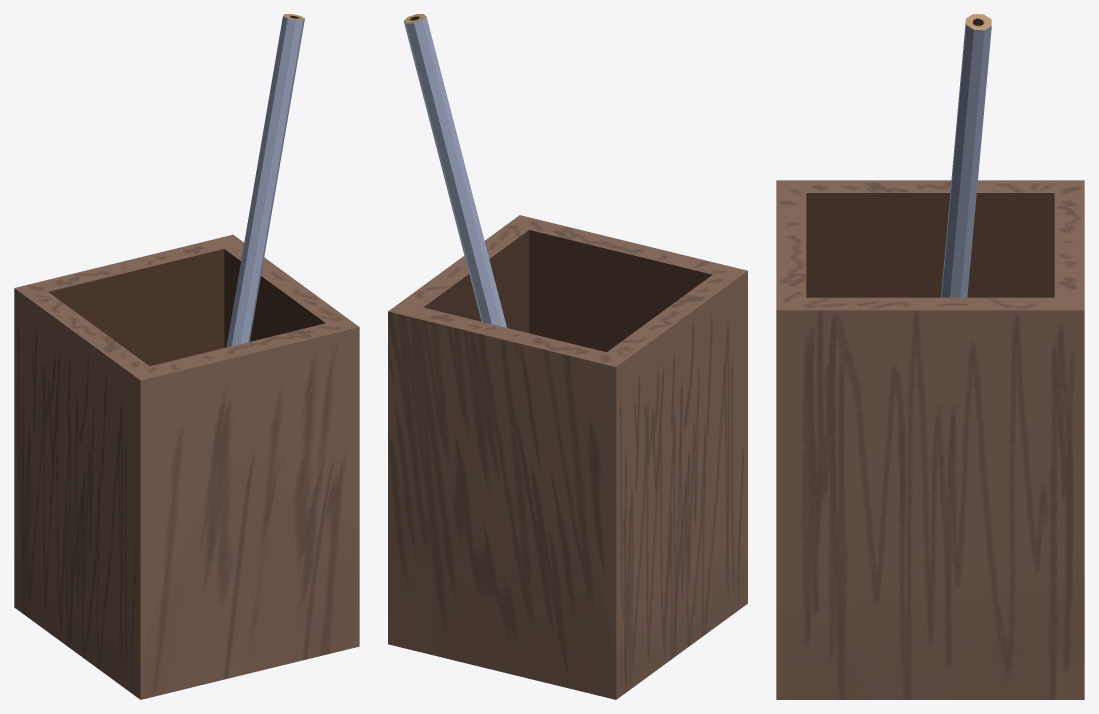
Rendered from DoodadPenInCup.fbx.
3 renders of one model, left to right at view 1: azimuth 30°, elevation 25°; view 2: azimuth 150°, elevation 25°; view 3: azimuth 270°, elevation 25°, orthographic. The views are drawn at different scales.
Visible parts, largest first — view 1: pen in cup; view 2: pen in cup; view 3: pen in cup.
Part boxes in pixels (bbox=[...]): pen in cup: bbox=[14, 14, 359, 699]; pen in cup: bbox=[388, 14, 747, 699]; pen in cup: bbox=[776, 14, 1084, 699].
Size of the model in its own units: 121 by 266 by 108.
Materials: 1 (1 with a texture image).
